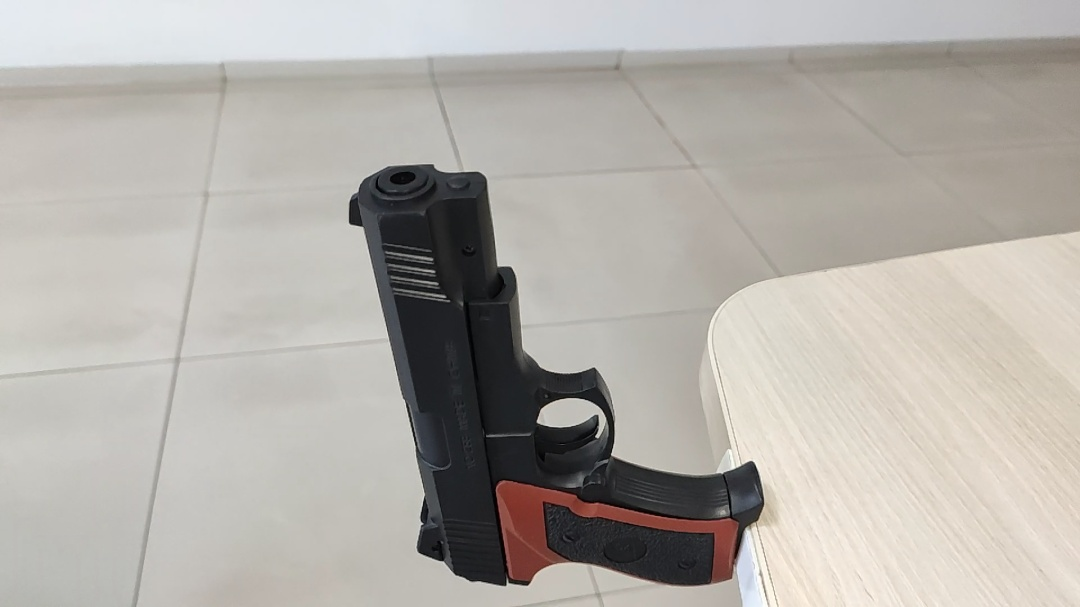gun: (345, 160, 766, 590)
